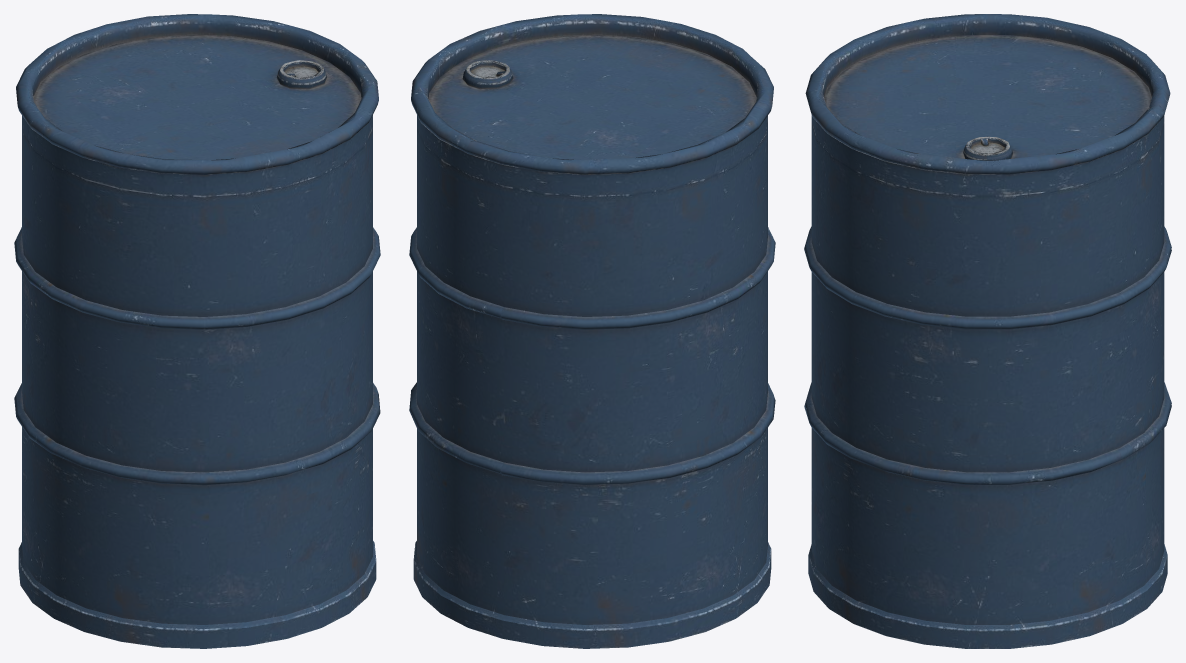
File: barrel_03_game.glb
3 renders of one model, left to right at view 1: azimuth 30°, elevation 25°; view 2: azimuth 150°, elevation 25°; view 3: azimuth 270°, elevation 25°, orthographic.
Parts seen in each view (by area): view 1: barrel_03; view 2: barrel_03; view 3: barrel_03.
Boxes of the visible parts, bbox=[...] form: barrel_03: bbox=[14, 14, 380, 648]; barrel_03: bbox=[409, 14, 775, 648]; barrel_03: bbox=[804, 14, 1171, 648].
Size of the model in its own units: 0.6339 by 0.9306 by 0.6384.
1 material, 1 textured.
